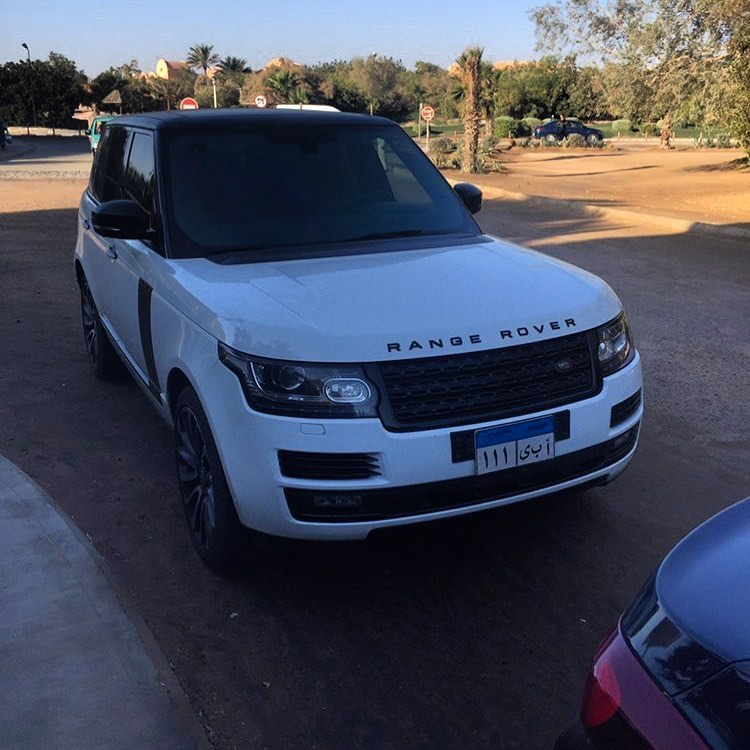carpl: (464, 424, 554, 471)
